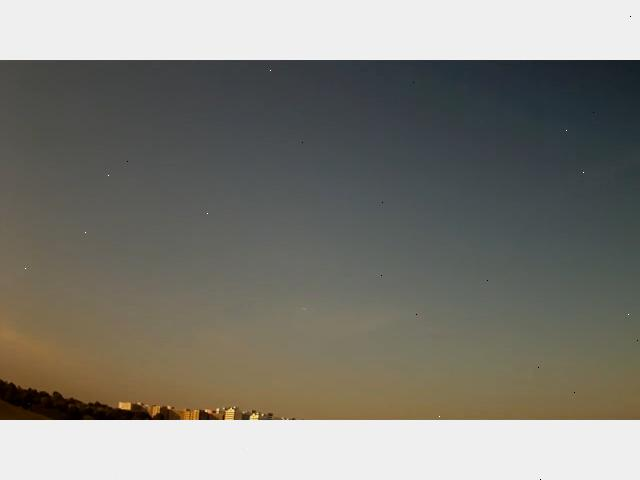Anti-Drone: (300, 306, 316, 312)
